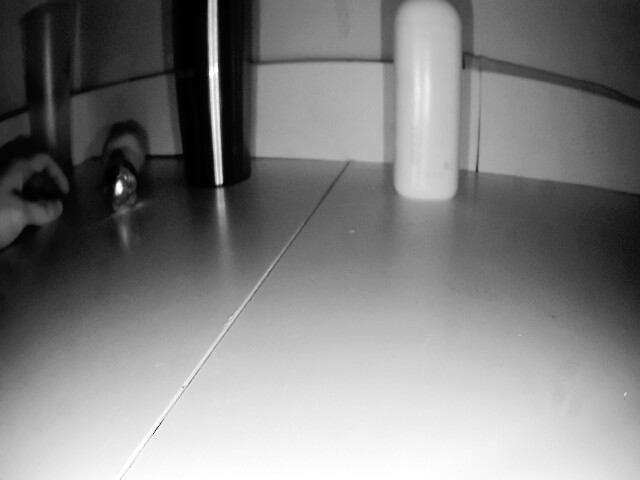black: (92, 161, 145, 220)
